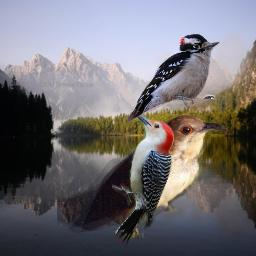Cuckoo: (57, 114, 228, 239)
Woodpecker: (127, 34, 220, 124), (112, 112, 174, 245)
